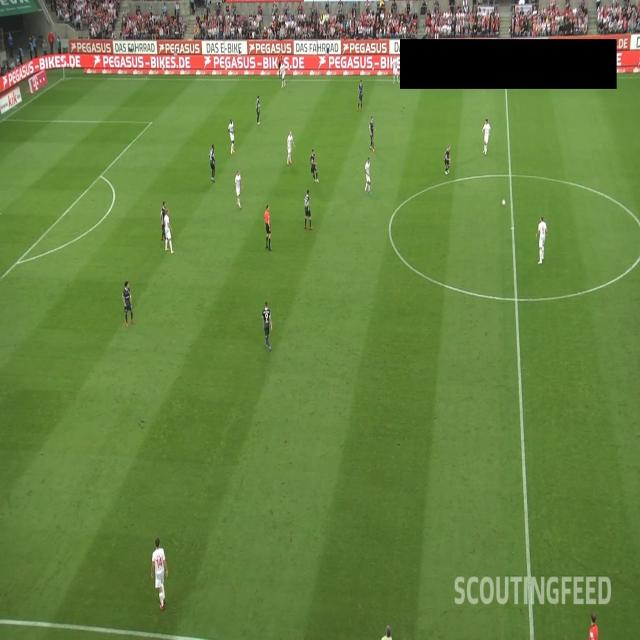ball: (502, 198, 506, 207)
